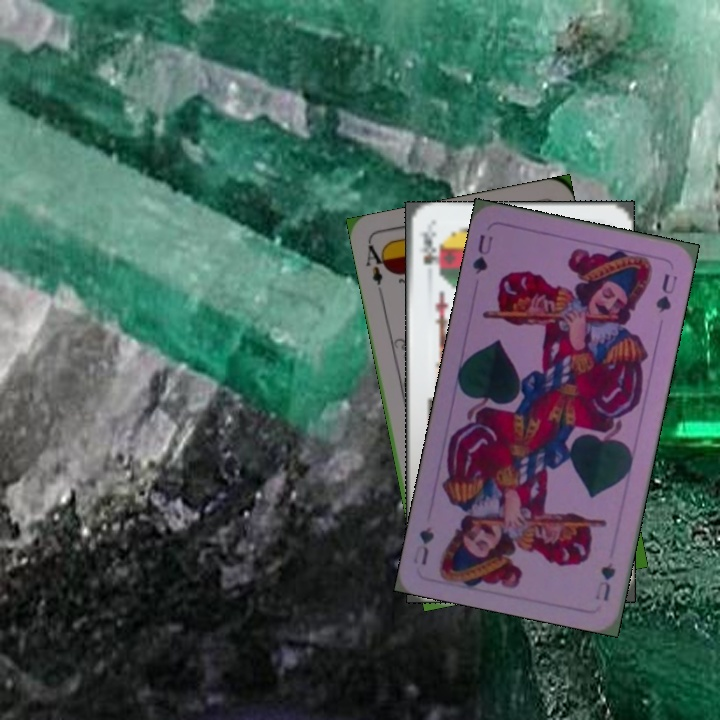EA: (361, 239, 391, 298)
GU: (468, 230, 496, 277), (591, 558, 618, 604)
SK: (415, 227, 439, 268)
